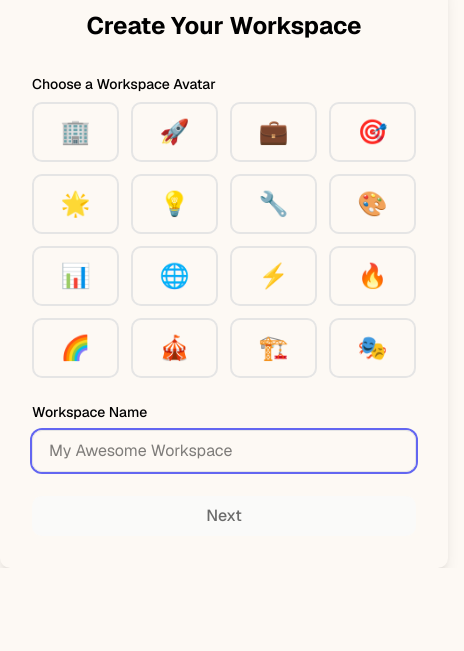
it: CreateWorkspaceForm › handles workspace creation errors
The image size is (464, 651).
In the field with placeholder "My Awesome Workspace": (224, 451) [32, 430, 416, 472], type "Test Workspace"
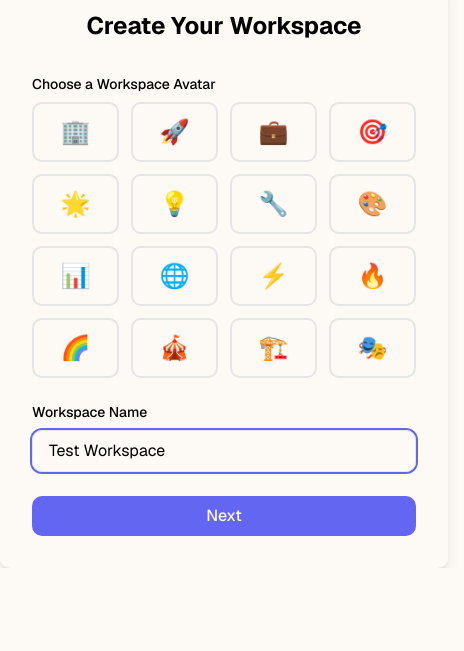
Click the button "Next": (224, 516) [32, 496, 416, 536]
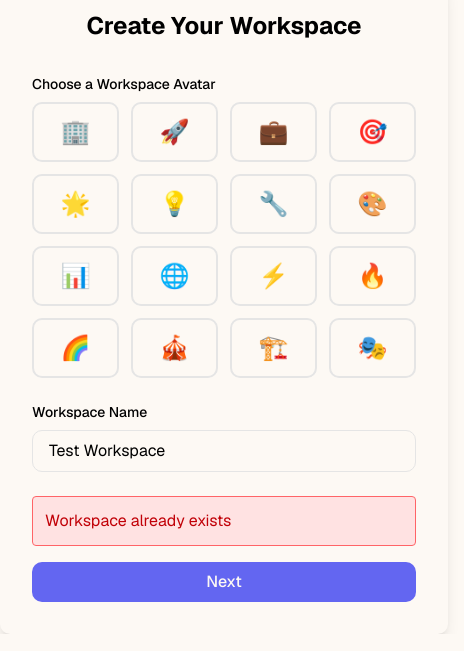
Expected: the text "Workspace already exists" is shown, [32, 496, 416, 546]
